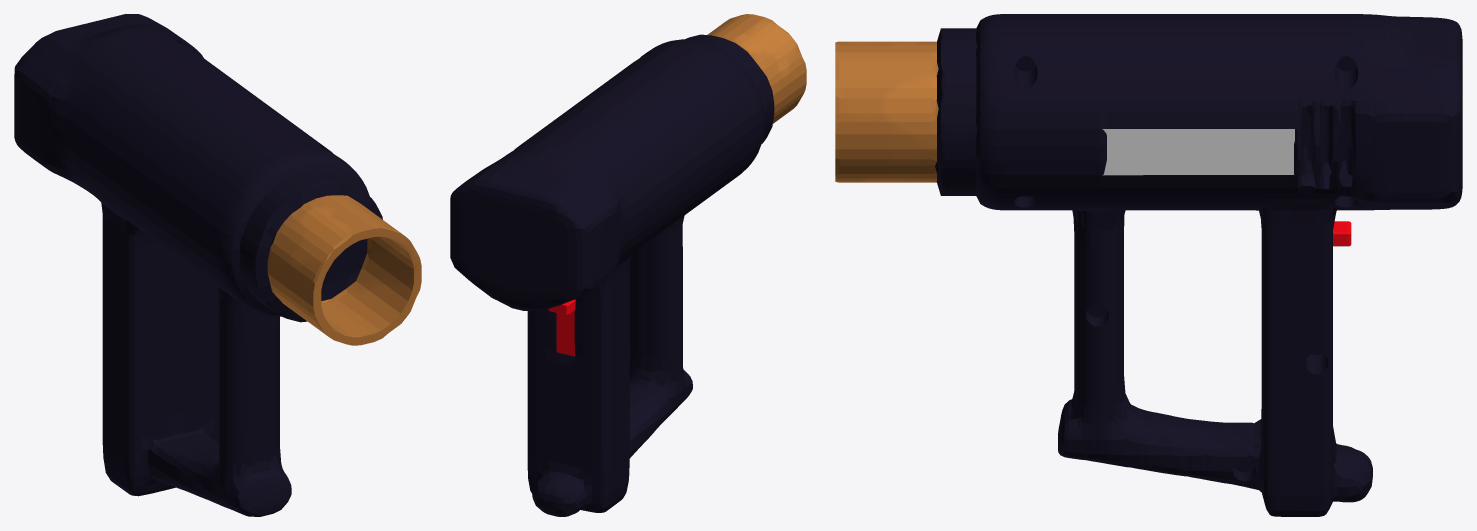
The model's file is PistolaDeCalor.fbx.
3 views of the same model, side by side, from view 1: azimuth 30°, elevation 25°; view 2: azimuth 150°, elevation 25°; view 3: azimuth 270°, elevation 25° (orthographic). The views are drawn at different scales.
Parts seen in each view (by area): view 1: Pistola, PistolaMetal; view 2: Pistola, PistolaMetal, Boton; view 3: Pistola, PistolaMetal, Etiqueta.
Part boxes in pixels (x1=…): Pistola: x1=14, y1=14, x2=382, y2=516; PistolaMetal: x1=267, y1=195, x2=421, y2=345; Pistola: x1=450, y1=34, x2=774, y2=516; PistolaMetal: x1=707, y1=14, x2=806, y2=123; Boton: x1=548, y1=299, x2=575, y2=356; Pistola: x1=935, y1=14, x2=1462, y2=516; PistolaMetal: x1=835, y1=41, x2=938, y2=182; Etiqueta: x1=1102, y1=129, x2=1294, y2=175.
Size of the model in its own units: 10.43 by 26.42 by 31.66.
Materials: 3 (1 with a texture image).
